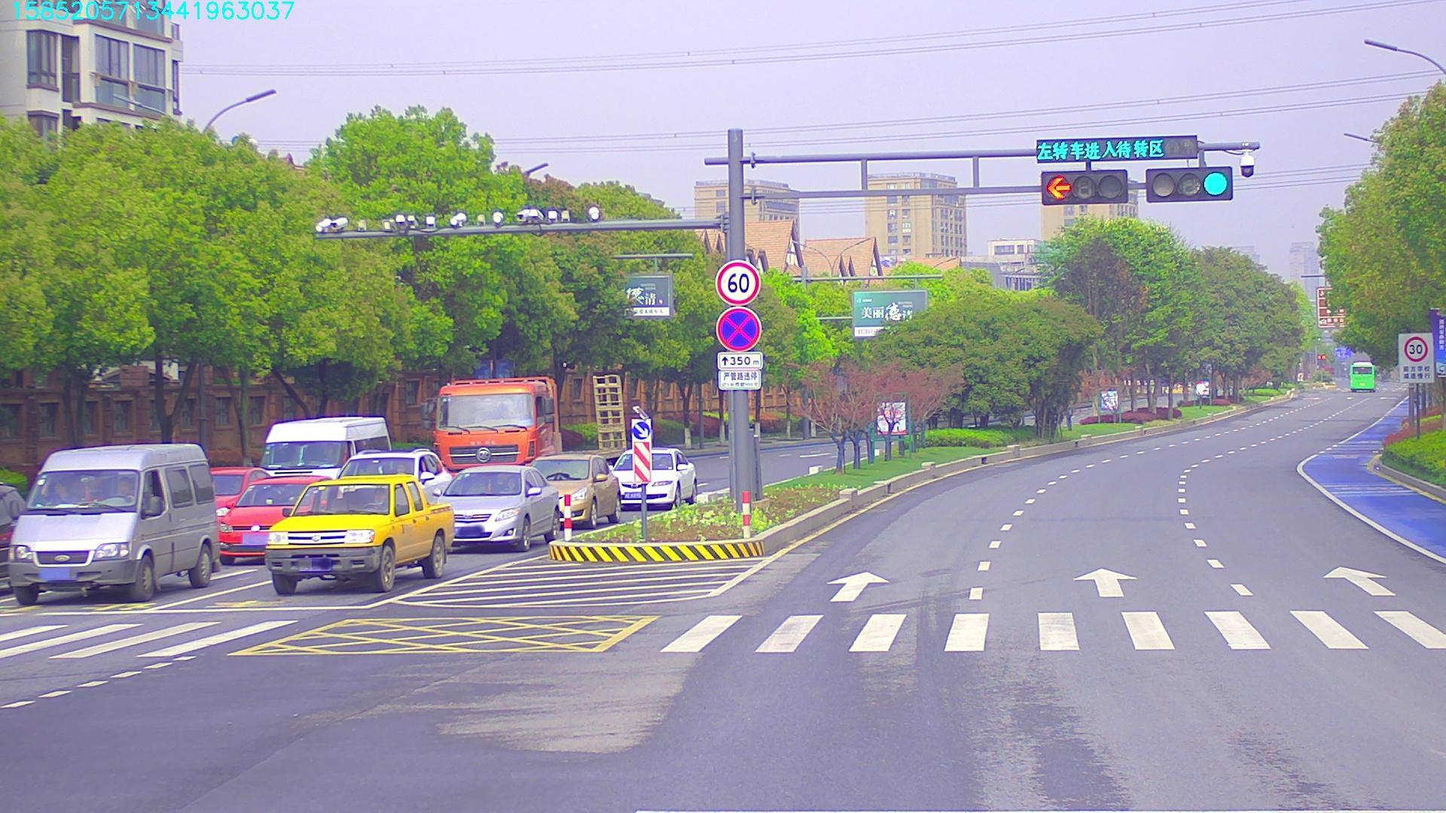green: (1141, 167, 1232, 198)
red: (1039, 169, 1121, 199)
wait_on: (1039, 137, 1200, 155)
